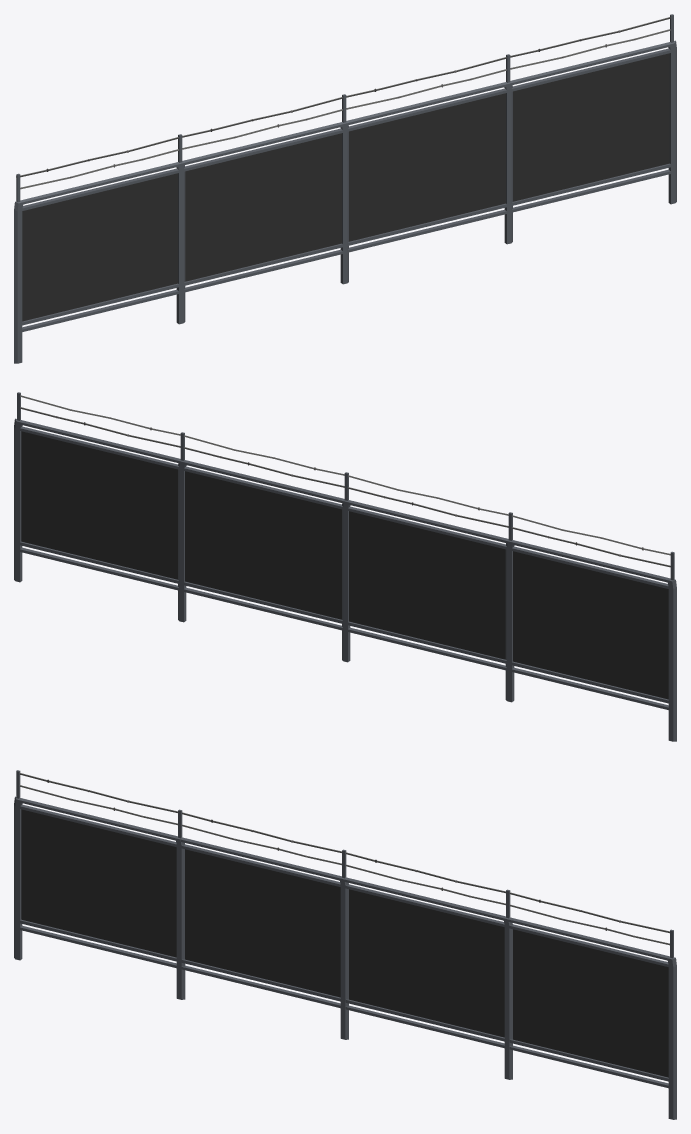
File: SM_Prop_Fence_04.fbx
The picture shows the model from 3 angles, top to bottom: view 1: azimuth 30°, elevation 25°; view 2: azimuth 150°, elevation 25°; view 3: azimuth 330°, elevation 25°; orthographic projection.
Parts seen in each view (by area): view 1: SM_Prop_Fence_04; view 2: SM_Prop_Fence_04; view 3: SM_Prop_Fence_04.
Boxes of the visible parts, x1,y1,x2,y2 form: SM_Prop_Fence_04: (14,14,676,363); SM_Prop_Fence_04: (14,392,676,741); SM_Prop_Fence_04: (14,770,676,1119).
Bounding box in the file's own units: 1175 × 319 × 7.24.
